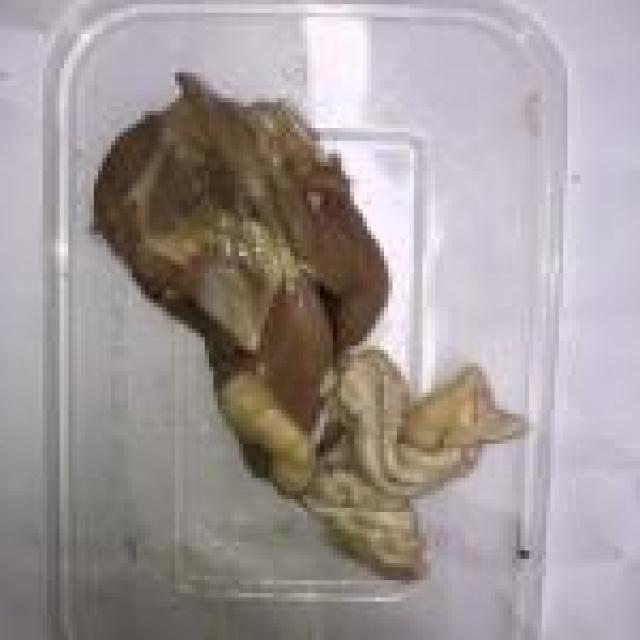breast: (76, 76, 460, 550)
